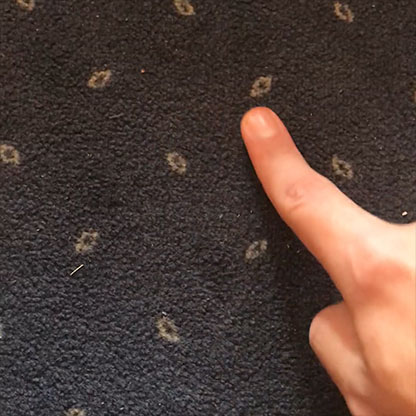fingertip: (235, 97, 293, 154)
